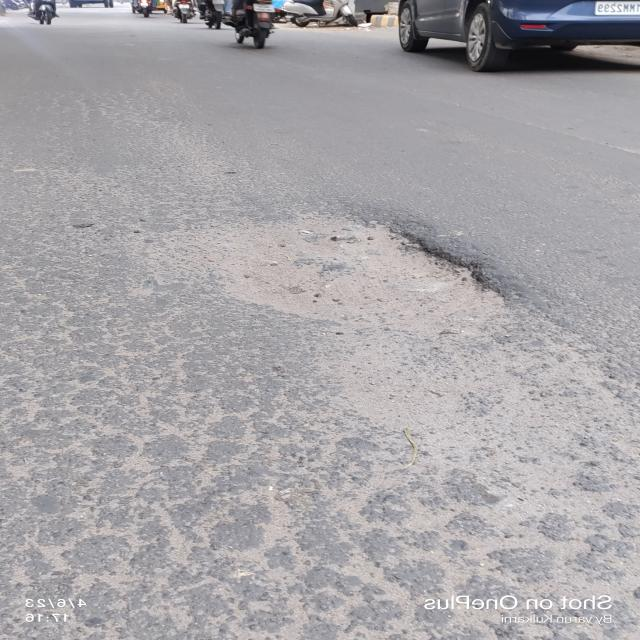potholes: (217, 199, 502, 345)
